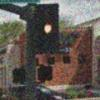traffic lights: (38, 3, 60, 54)
